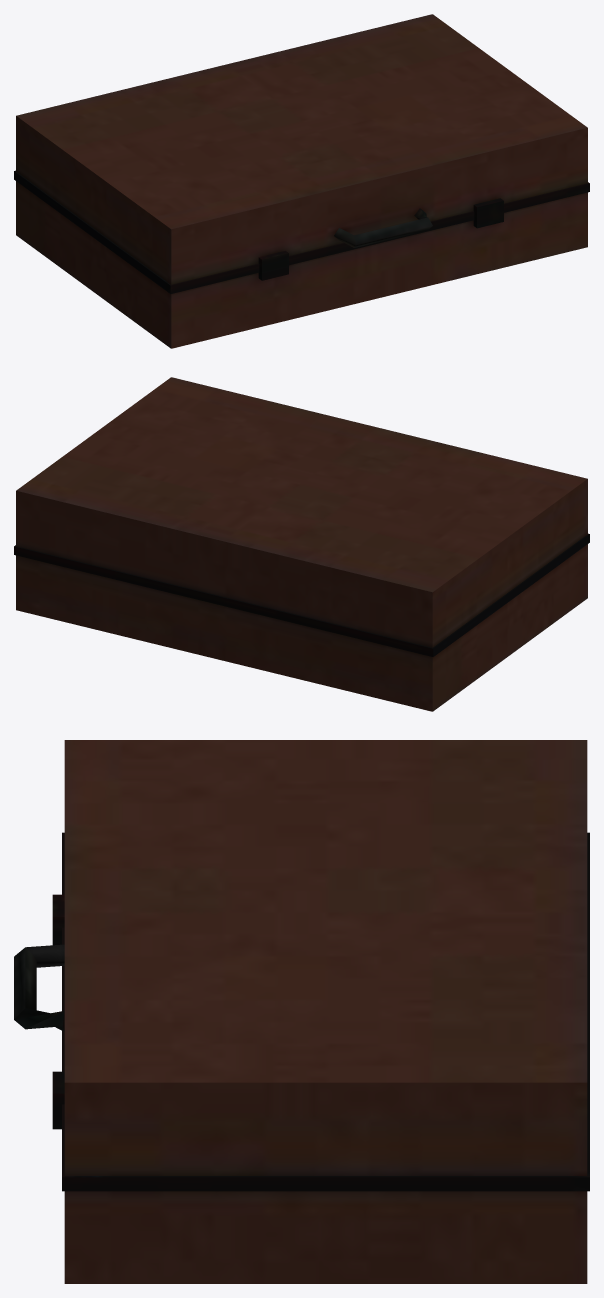
File: suitcase_lod1_web.glb
3 renders of one model, top to bottom at view 1: azimuth 30°, elevation 25°; view 2: azimuth 150°, elevation 25°; view 3: azimuth 270°, elevation 25°, orthographic. The views are drawn at different scales.
Visible parts, largest first — view 1: Suitcase_Body; view 2: Suitcase_Body; view 3: Suitcase_Body.
Part boxes in pixels (x1,y1,x2,y2): Suitcase_Body: (14, 14, 589, 348); Suitcase_Body: (14, 377, 589, 711); Suitcase_Body: (14, 740, 589, 1283).
Bounding box in the file's own units: 0.624 × 0.17 × 0.4407.
1 material, 1 textured.
